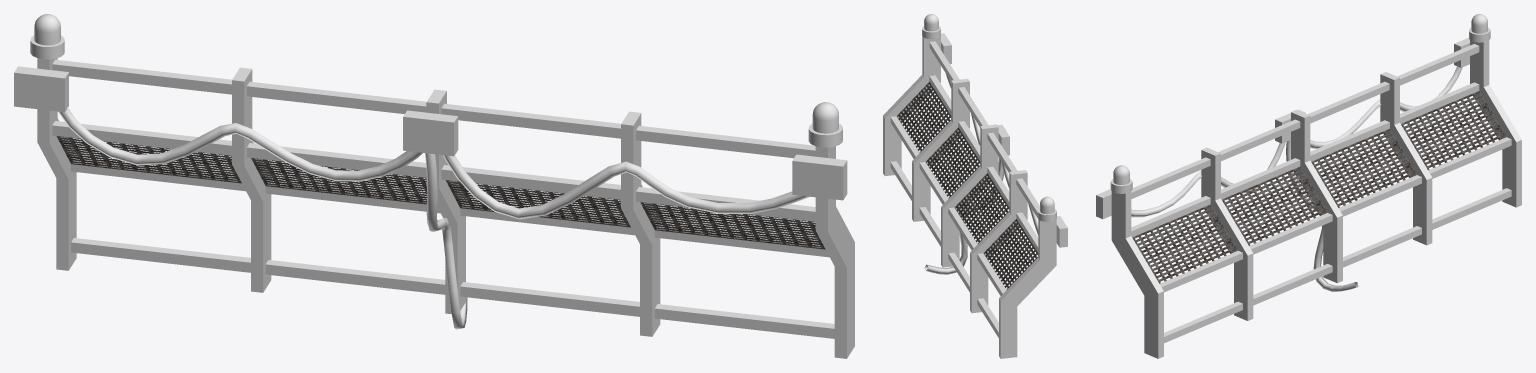
The model's file is fence_corner_4x4m_01.fbx.
3 renders of one model, left to right at view 1: azimuth 30°, elevation 25°; view 2: azimuth 150°, elevation 25°; view 3: azimuth 270°, elevation 25°, orthographic. The views are drawn at different scales.
Parts seen in each view (by area): view 1: Cube.181, Cube.179, BezierCurve.014, Cube.172, Cube.173, Cube.174, Cube.180, Cube.072, Cube.075, Cube.077, Cube.071, Cube.175 (+6 smaller); view 2: Cube.175, Cube.071, Cube.180, Cube.075, Cube.072, Cube.074, Cube.077, Cube.174, Cube.172, Cube.173, Cube.179, BezierCurve.014 (+6 smaller); view 3: Cube.175, Cube.180, Cube.174, Cube.172, Cube.173, Cube.179, Cube.077, Cube.075, Cube.072, Cube.074, Cube.071, BezierCurve.014 (+4 smaller).
Part boxes in pixels (bbox=[...]): Cube.181: bbox=[56, 136, 825, 249]; Cube.179: bbox=[71, 238, 834, 338]; BezierCurve.014: bbox=[58, 107, 810, 329]; Cube.172: bbox=[52, 59, 815, 158]; Cube.173: bbox=[52, 121, 815, 221]; Cube.174: bbox=[71, 158, 829, 257]; Cube.180: bbox=[59, 137, 824, 248]; Cube.072: bbox=[232, 67, 271, 292]; Cube.075: bbox=[621, 111, 660, 336]; Cube.077: bbox=[815, 146, 854, 358]; Cube.071: bbox=[37, 58, 76, 270]; Cube.175: bbox=[59, 136, 818, 244]; Cube.175: bbox=[896, 82, 1038, 289]; Cube.071: bbox=[999, 219, 1056, 358]; Cube.180: bbox=[897, 83, 1036, 287]; Cube.075: bbox=[912, 78, 969, 221]; Cube.072: bbox=[970, 170, 1027, 313]; Cube.074: bbox=[941, 124, 998, 267]; Cube.077: bbox=[883, 36, 940, 175]; Cube.174: bbox=[890, 116, 1006, 295]; Cube.172: bbox=[929, 41, 1039, 217]; Cube.173: bbox=[929, 75, 1038, 252]; Cube.179: bbox=[890, 161, 998, 337]; BezierCurve.014: bbox=[924, 73, 1038, 274]; Cube.175: bbox=[1132, 91, 1506, 283]; Cube.180: bbox=[1133, 93, 1505, 281]; Cube.174: bbox=[1160, 137, 1511, 292]; Cube.172: bbox=[1131, 44, 1479, 198]; Cube.173: bbox=[1131, 82, 1479, 237]; Cube.179: bbox=[1164, 188, 1511, 343]; Cube.077: bbox=[1111, 191, 1163, 358]; Cube.075: bbox=[1201, 147, 1253, 320]; Cube.072: bbox=[1380, 72, 1432, 245]; Cube.074: bbox=[1291, 109, 1342, 283]; Cube.071: bbox=[1470, 40, 1521, 207]; BezierCurve.014: bbox=[1131, 66, 1462, 291].
Bounding box in the file's own units: 3364 × 1619 × 3364.
